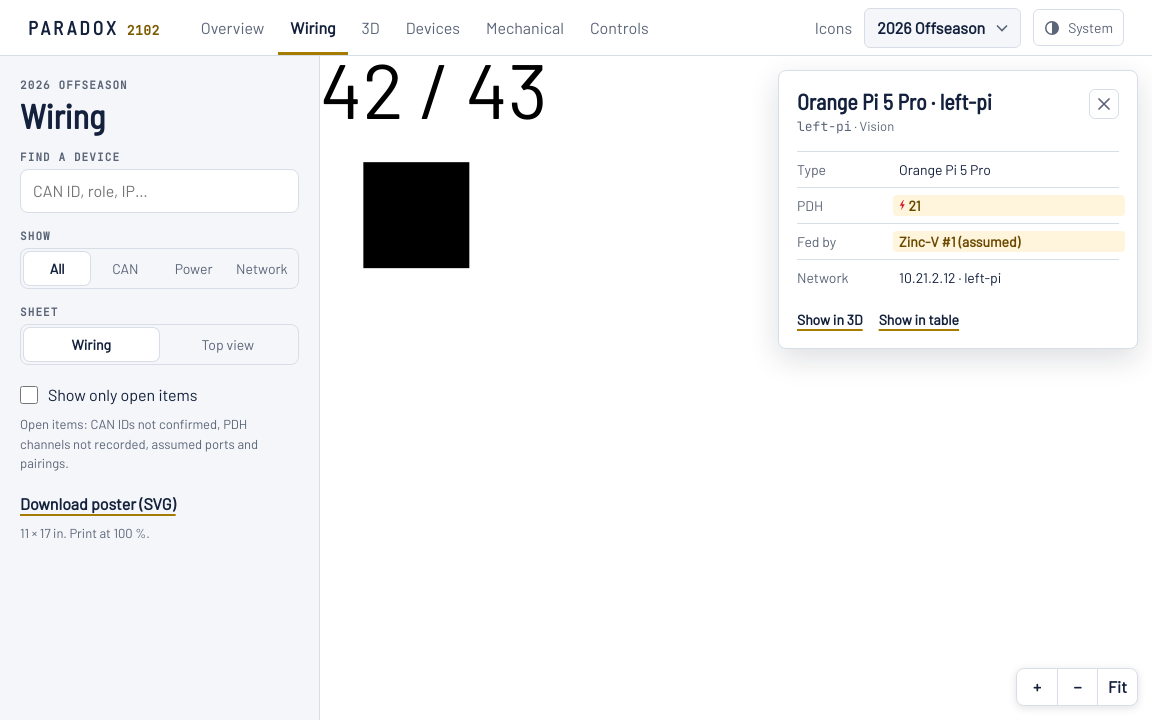
Scenario: Close clears the device
The image size is (1152, 720).
What coordinates should you click on to do the following:
click the button named "Close device details"
I would click on:
 (1104, 104)
Its box is top-left (1089, 89), bottom-right (1119, 119).
(page scrolled)
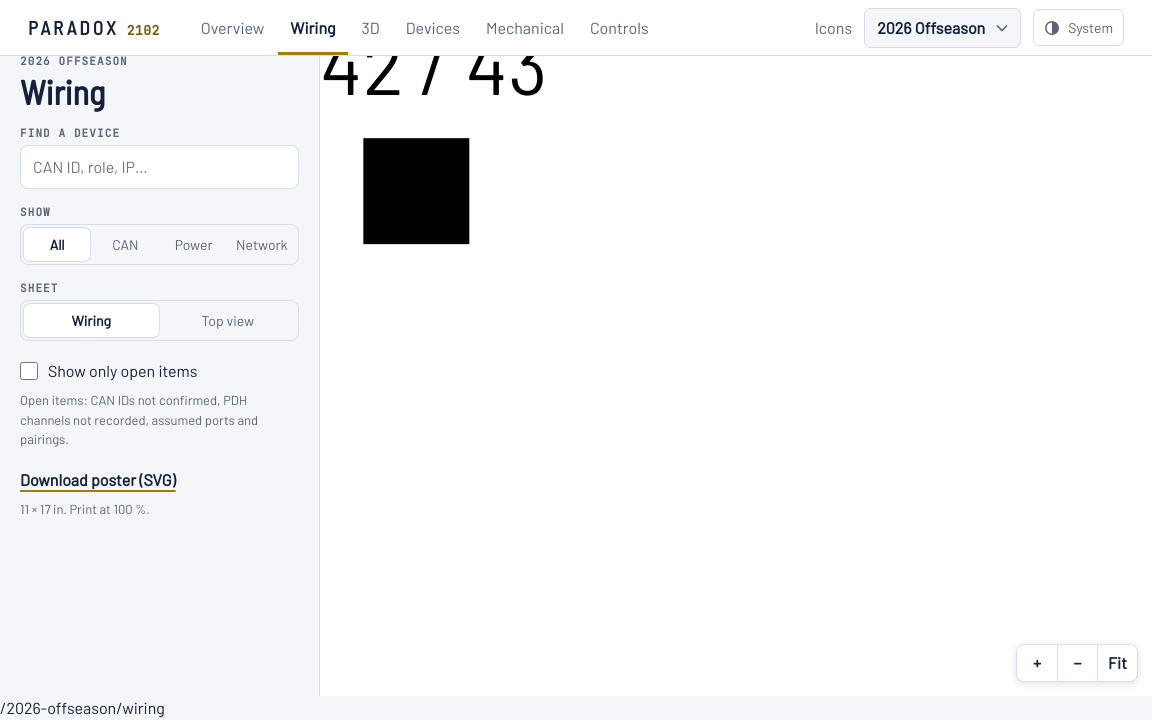
Result: the heading "Orange Pi 5 Pro · left-pi" is gone
Result: the text with test id "where" reads "/2026-offseason/wiring" at top-left (0, 698), bottom-right (165, 717)
